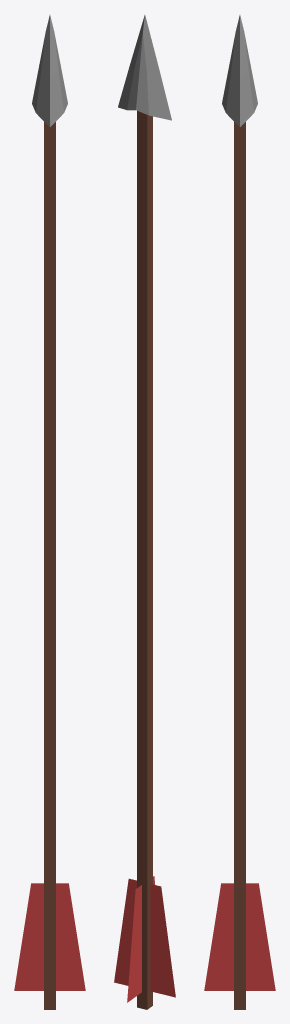
Rendered from Arrow.glb.
3 renders of one model, left to right at view 1: azimuth 90°, elevation 25°; view 2: azimuth 150°, elevation 25°; view 3: azimuth 270°, elevation 25°, orthographic.
Visible parts, largest first — view 1: arrow; view 2: arrow; view 3: arrow.
Part boxes in pixels (<box>): arrow: <box>14,15,85,1009</box>; arrow: <box>114,15,175,1009</box>; arrow: <box>204,15,275,1009</box>.
Size of the model in its own units: 0.0617 by 0.9453 by 0.0617.
Materials: 1 (1 with a texture image).
